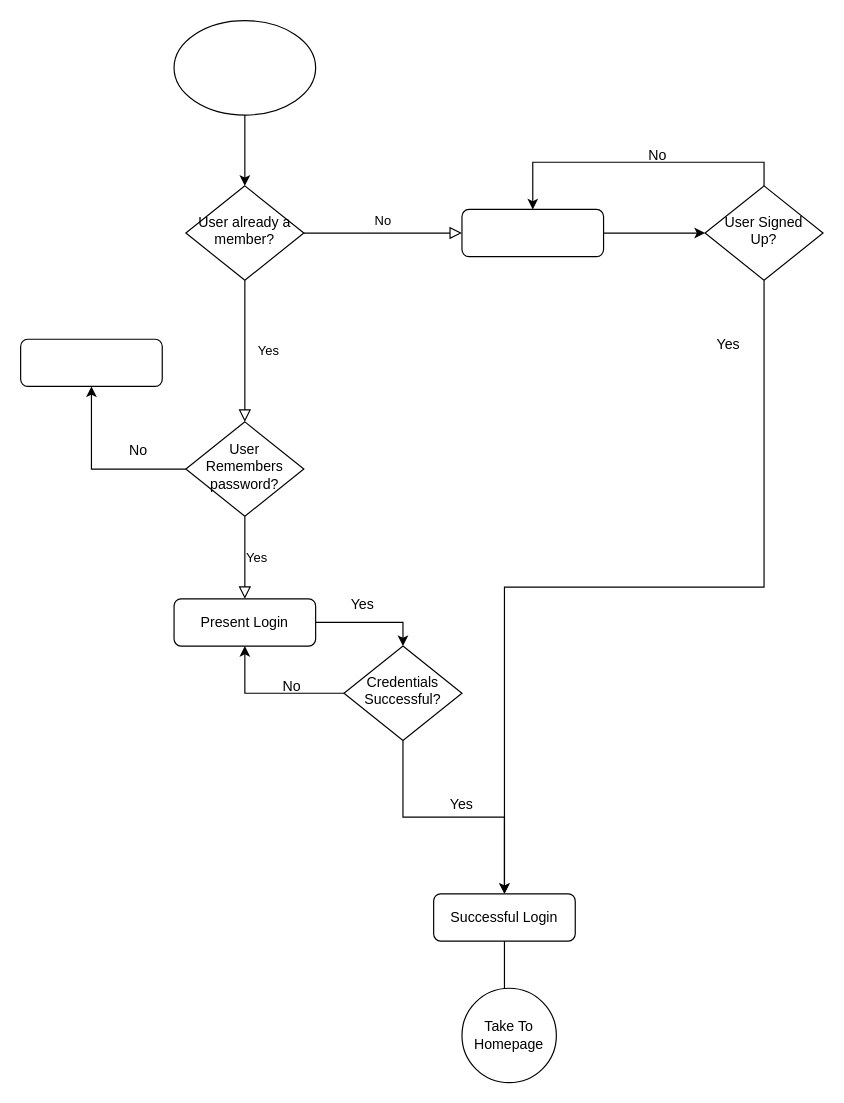
Some shapes in this 844 by 1103 pixel diagram are drawn without their labels. The shapes that lost their labels are listed below. From the top down, each one's box as (x1, y1, x2, y2) in pixels, then its label:
(173, 19, 316, 115): User opens website
(461, 208, 604, 257): Present Sign Up
(19, 338, 162, 386): Password Recovery
